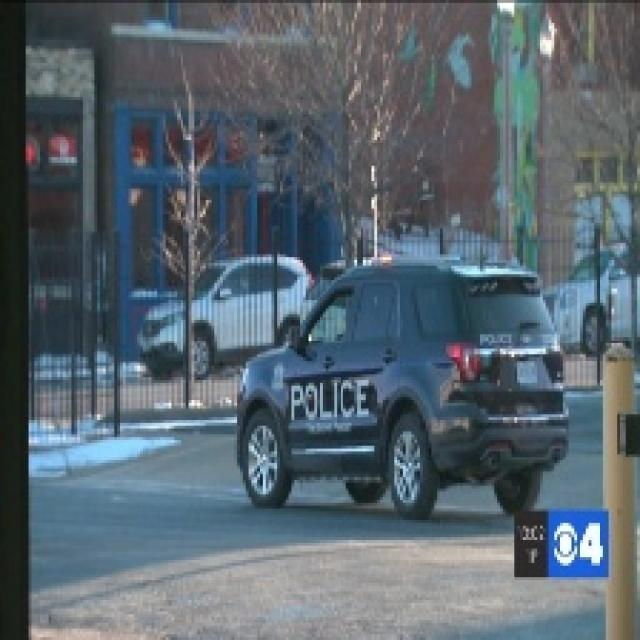car: (212, 252, 574, 515), (132, 238, 317, 369)
